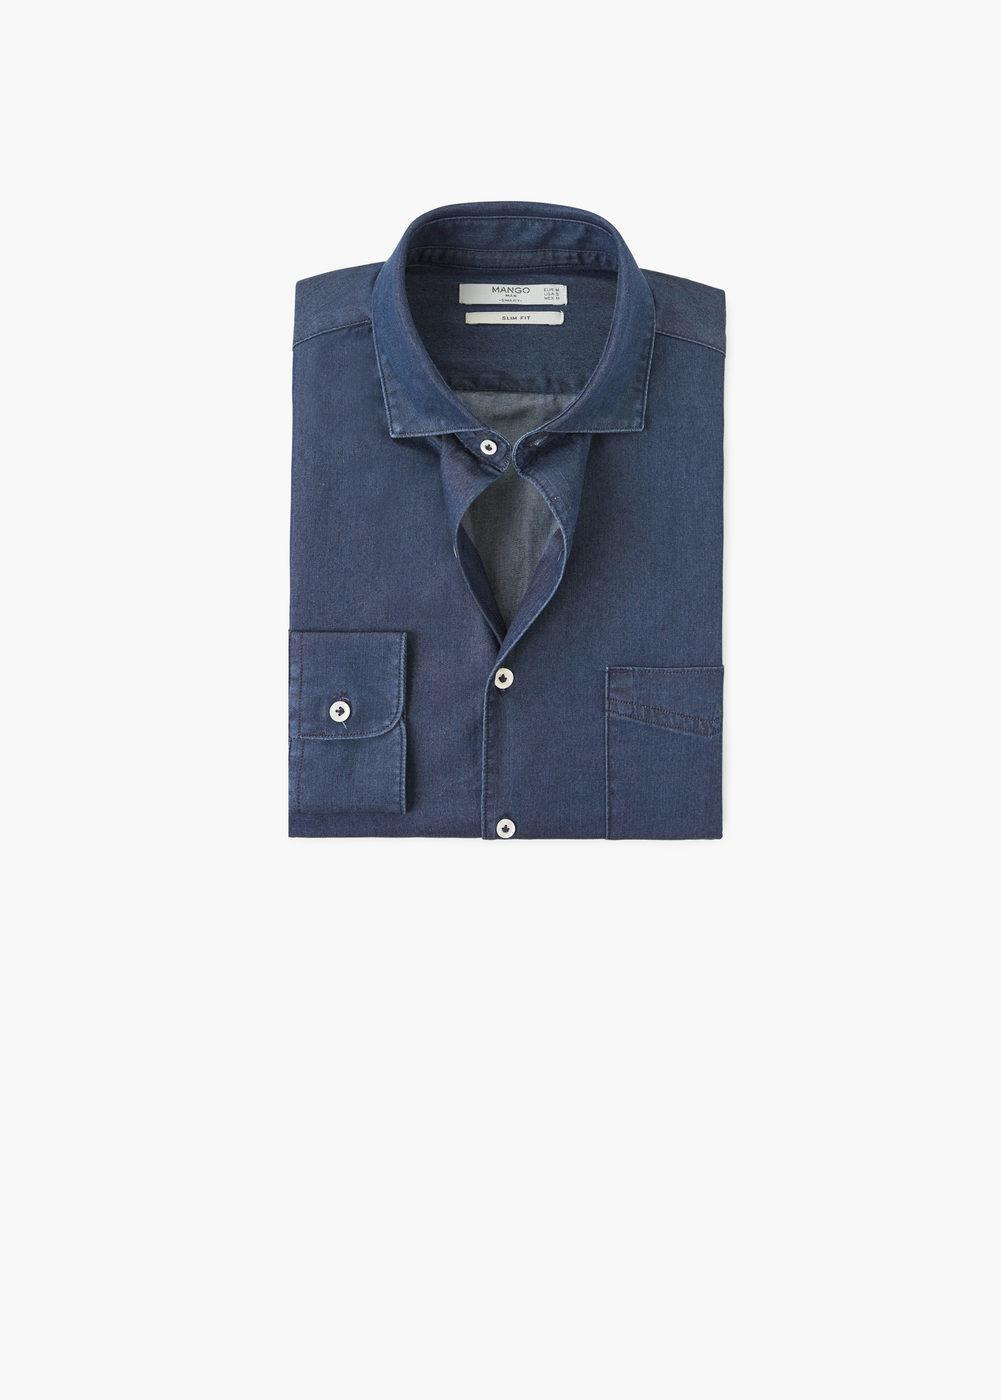teeshirt: (250, 193, 757, 861)
